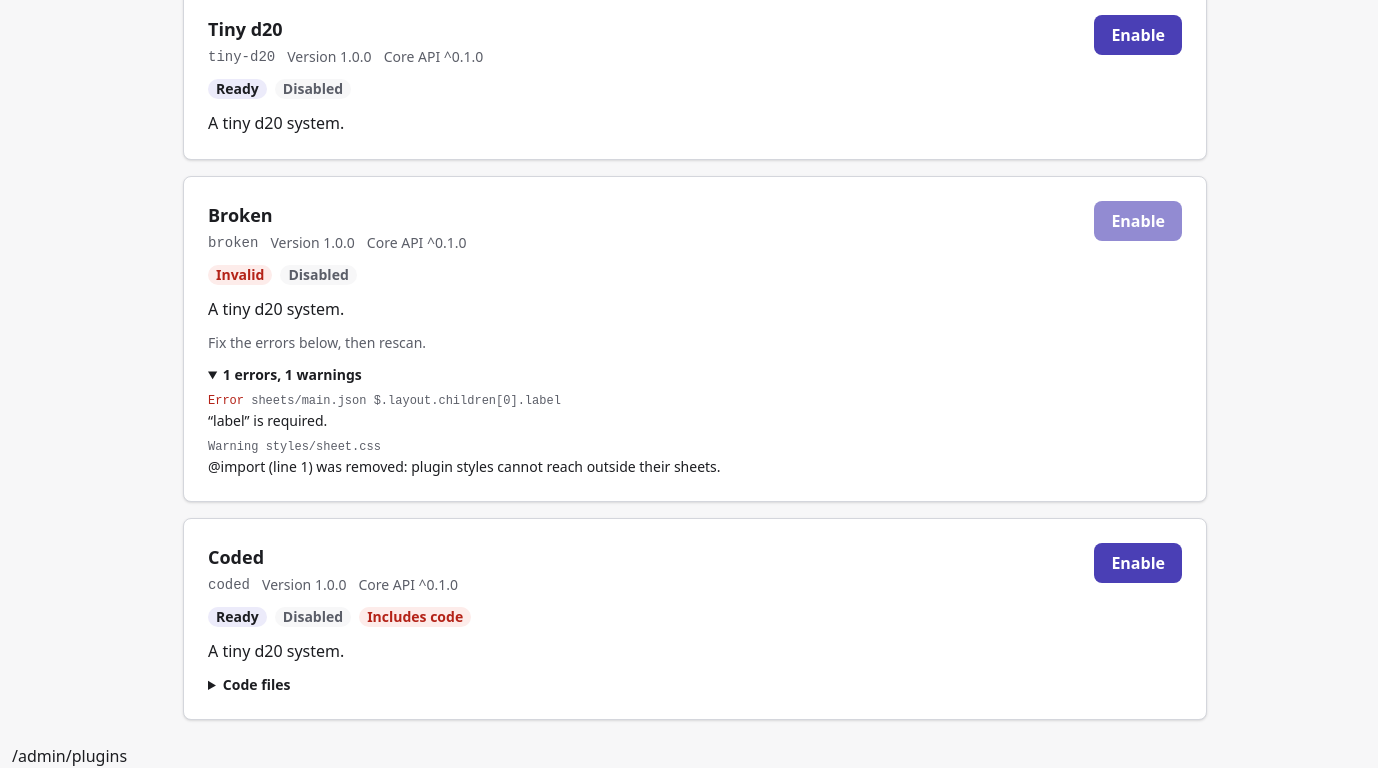
Test: plugin admin page (T-0406, FR-ADMIN-02) › lists the code files of a plugin with code (FR-PLUGIN-06, T-0809)
The image size is (1378, 768).
(page scrolled)
Expected: the heading "Coded" is shown, [208,545,264,569]
Click the heading "Code files" at [257, 684], box [223,675,290,694]
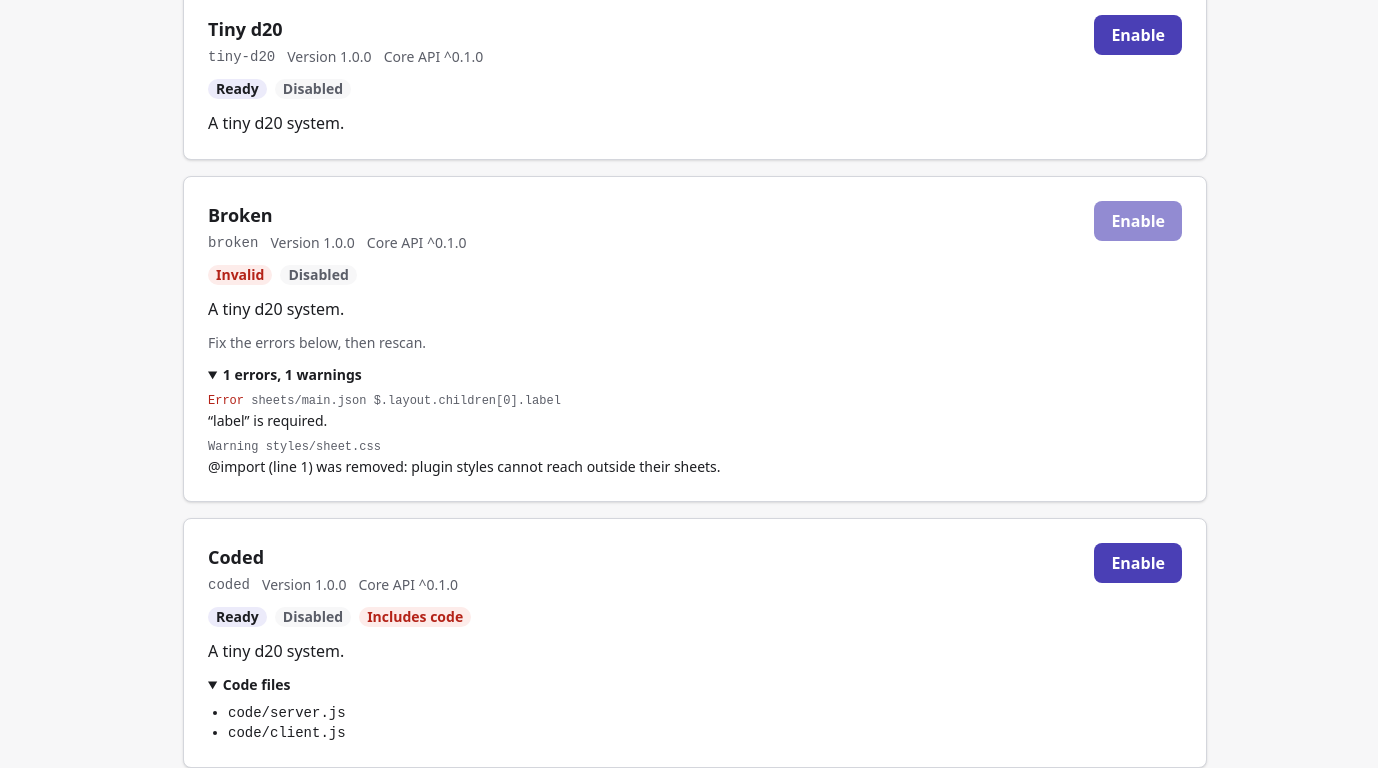
Result: the list item "code/server.js" is shown at [228,705,346,721]
Result: the list item "code/client.js" is shown at [228,725,346,741]
